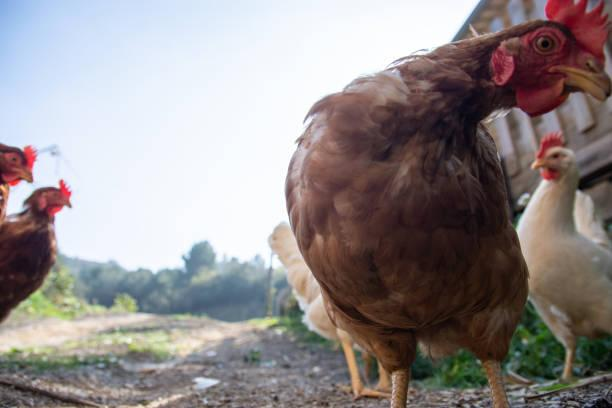AbNormal: (258, 0, 597, 408)
